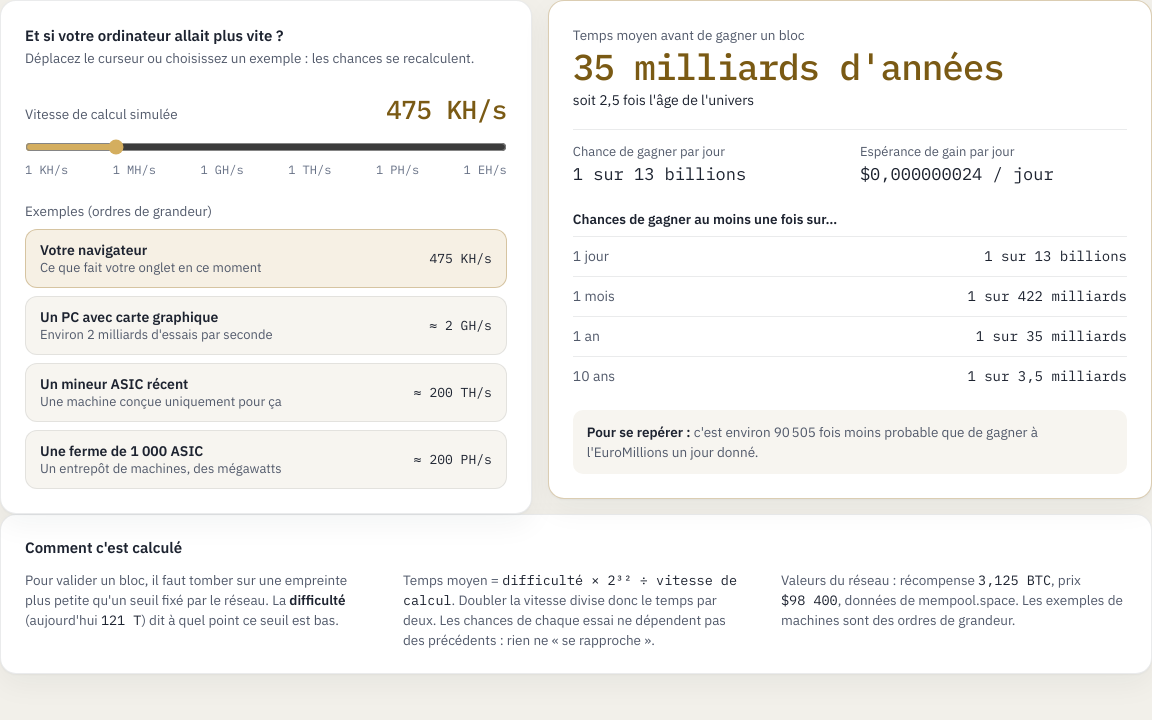
Test: ChancesScreen › follows the slider
Set the slider labelled "Vitesse de calcul simulée" to "9" at (219, 147), box x1=25 y1=139 x2=507 y2=155
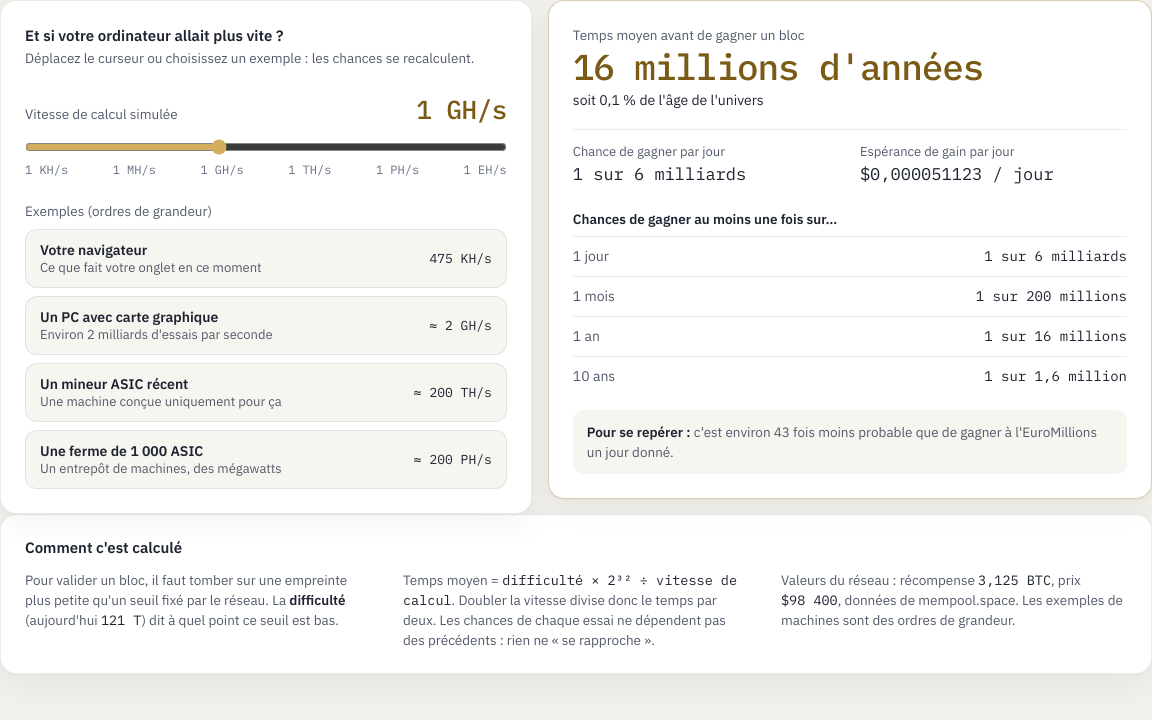
Expected: the text "1 GH/s" in the row of "Vitesse de calcul simulée" is shown, x1=416 y1=92 x2=507 y2=126
